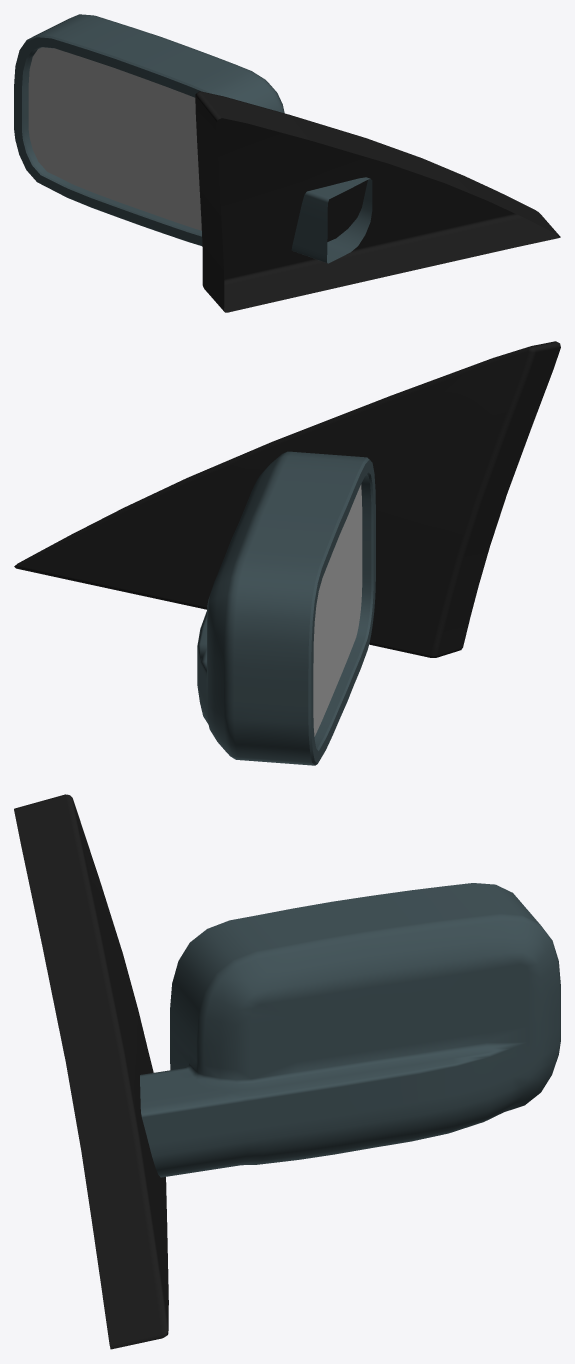
3 renders of one model, top to bottom at view 1: azimuth 30°, elevation 25°; view 2: azimuth 150°, elevation 25°; view 3: azimuth 270°, elevation 25°, orthographic. The views are drawn at different scales.
Visible parts, largest first — view 1: P222_15_261I_L_2_D_P222_15_261I_L, P222_15_261I_L_P222_15_261I_L_3_DTaSI, P222_15_261I_L_P222_15_261I_L_1_DaS, P222_15_261I_L_P222_15_261I_L_1_DaS_E; view 2: P222_15_261I_L_2_D_P222_15_261I_L, P222_15_261I_L_P222_15_261I_L_1_DaS, P222_15_261I_L_P222_15_261I_L_3_DTaSI, P222_15_261I_L_P222_15_261I_L_1_DaS_E; view 3: P222_15_261I_L_P222_15_261I_L_1_DaS, P222_15_261I_L_2_D_P222_15_261I_L.
Part boxes in pixels (left/top/right/bottom): P222_15_261I_L_2_D_P222_15_261I_L: left=195, top=91, right=560, bottom=312; P222_15_261I_L_P222_15_261I_L_3_DTaSI: left=28, top=47, right=201, bottom=230; P222_15_261I_L_P222_15_261I_L_1_DaS: left=14, top=14, right=372, bottom=263; P222_15_261I_L_P222_15_261I_L_1_DaS_E: left=15, top=35, right=210, bottom=245; P222_15_261I_L_2_D_P222_15_261I_L: left=14, top=341, right=560, bottom=657; P222_15_261I_L_P222_15_261I_L_1_DaS: left=197, top=451, right=375, bottom=765; P222_15_261I_L_P222_15_261I_L_3_DTaSI: left=313, top=484, right=362, bottom=736; P222_15_261I_L_P222_15_261I_L_1_DaS_E: left=308, top=457, right=373, bottom=765; P222_15_261I_L_P222_15_261I_L_1_DaS: left=140, top=883, right=560, bottom=1177; P222_15_261I_L_2_D_P222_15_261I_L: left=14, top=794, right=168, bottom=1349.
Size of the model in its own units: 25.82 by 16.16 by 25.03.
